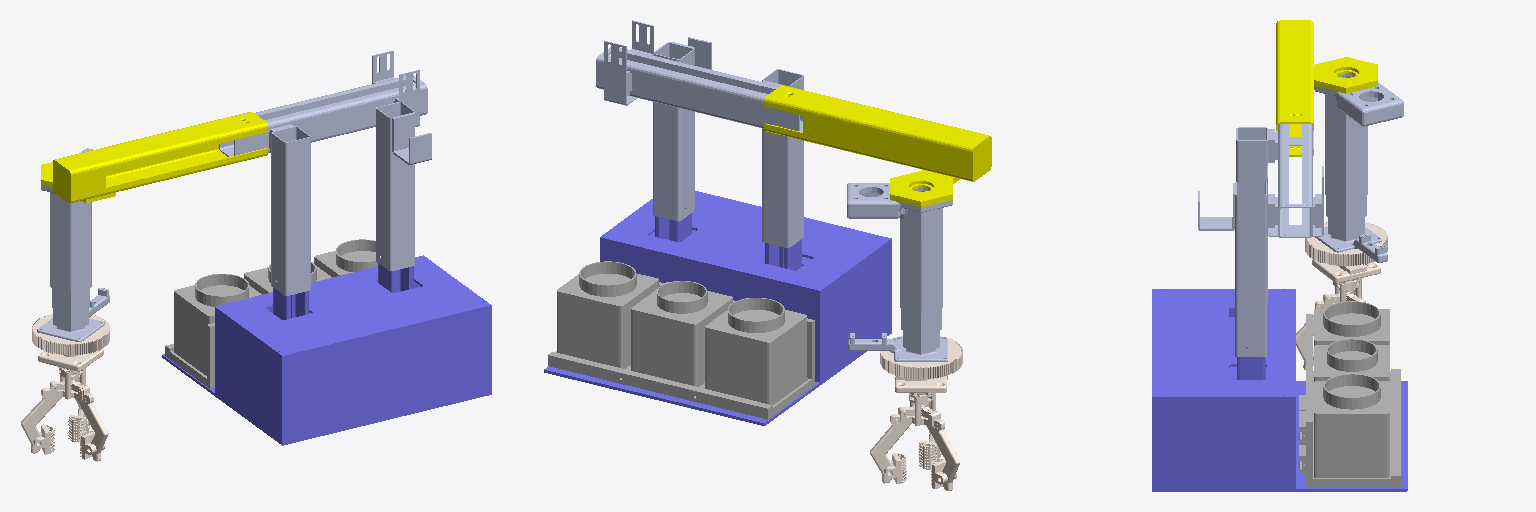
The robot description file, URDF, robot "URDF_v5.SLDASM":
<?xml version="1.0" encoding="utf-8"?>
<!-- This URDF was automatically created by SolidWorks to URDF Exporter! Originally created by [author] ([email redacted]) 
     Commit Version: 1.6.0-4-g7f85cfe  Build Version: 1.6.7995.38578
     For more information, please see http://wiki.ros.org/sw_urdf_exporter -->
<robot
  name="URDF_v5.SLDASM">
  <link
    name="base">
    <inertial>
      <origin
        xyz="0.0944893864769673 -0.0347411727043226 -0.101278892046256"
        rpy="0 0 0" />
      <mass
        value="6.12695332790383" />
      <inertia
        ixx="0.0526628123209649"
        ixy="3.72389539763587E-05"
        ixz="9.46408382568137E-12"
        iyy="0.110440494279973"
        iyz="1.05397026647092E-11"
        izz="0.143434836820738" />
    </inertial>
    <visual>
      <origin
        xyz="0 0 0"
        rpy="0 0 0" />
      <geometry>
        <mesh
          filename="package://sysmap_package/meshes/base.STL" />
      </geometry>
      <material
        name="">
        <color
          rgba="0.501960784313725 0.501960784313725 1 1" />
      </material>
    </visual>
    <collision>
      <origin
        xyz="0 0 0"
        rpy="0 0 0" />
      <geometry>
        <mesh
          filename="package://sysmap_package/meshes/base.STL" />
      </geometry>
    </collision>
  </link>
  <link
    name="gliss_poteaux">
    <inertial>
      <origin
        xyz="0.11856 0.031392 0.24509"
        rpy="0 0 0" />
      <mass
        value="0.5009" />
      <inertia
        ixx="0.0017002"
        ixy="-1.7782E-08"
        ixz="-2.7474E-19"
        iyy="0.0036788"
        iyz="-2.3225E-06"
        izz="0.0024273" />
    </inertial>
    <visual>
      <origin
        xyz="0 0 0"
        rpy="0 0 0" />
      <geometry>
        <mesh
          filename="package://sysmap_package/meshes/gliss_poteaux.STL" />
      </geometry>
      <material
        name="">
        <color
          rgba="0.79216 0.81961 0.93333 1" />
      </material>
    </visual>
    <collision>
      <origin
        xyz="0 0 0"
        rpy="0 0 0" />
      <geometry>
        <mesh
          filename="package://sysmap_package/meshes/gliss_poteaux.STL" />
      </geometry>
    </collision>
  </link>
  <joint
    name="gliss_poteaux"
    type="prismatic">
    <origin
      xyz="0 0 0"
      rpy="0 0 0" />
    <parent
      link="base" />
    <child
      link="gliss_poteaux" />
    <axis
      xyz="0 0 -1" />
    <limit
      lower="0"
      upper="0"
      effort="0"
      velocity="0" />
  </joint>
  <link
    name="gliss_bras">
    <inertial>
      <origin
        xyz="0.55743 -0.02058 -0.011047"
        rpy="0 0 0" />
      <mass
        value="0.33517" />
      <inertia
        ixx="0.00042422"
        ixy="-5.1329E-06"
        ixz="-1.9397E-18"
        iyy="0.002735"
        iyz="-1.4414E-07"
        izz="0.0028909" />
    </inertial>
    <visual>
      <origin
        xyz="0 0 0"
        rpy="0 0 0" />
      <geometry>
        <mesh
          filename="package://sysmap_package/meshes/gliss_bras.STL" />
      </geometry>
      <material
        name="">
        <color
          rgba="1 1 0 1" />
      </material>
    </visual>
    <collision>
      <origin
        xyz="0 0 0"
        rpy="0 0 0" />
      <geometry>
        <mesh
          filename="package://sysmap_package/meshes/gliss_bras.STL" />
      </geometry>
    </collision>
  </link>
  <joint
    name="gliss_bras"
    type="prismatic">
    <origin
      xyz="0.29342493954964 0.0679999999953615 0.296721660586204"
      rpy="0 0 -3.14159265358979" />
    <parent
      link="gliss_poteaux" />
    <child
      link="gliss_bras" />
    <axis
      xyz="-1 0 0" />
    <limit
      lower="0"
      upper="0"
      effort="0"
      velocity="0" />
  </joint>
  <link
    name="verrin">
    <inertial>
      <origin
        xyz="-0.012557 0.0072673 0.13794"
        rpy="0 0 0" />
      <mass
        value="0.66179" />
      <inertia
        ixx="0.0019699"
        ixy="0.00020748"
        ixz="-0.00015373"
        iyy="0.0022107"
        iyz="8.8756E-05"
        izz="0.0011449" />
    </inertial>
    <visual>
      <origin
        xyz="0 0 0"
        rpy="0 0 0" />
      <geometry>
        <mesh
          filename="package://sysmap_package/meshes/verrin.STL" />
      </geometry>
      <material
        name="">
        <color
          rgba="0.79216 0.81961 0.93333 1" />
      </material>
    </visual>
    <collision>
      <origin
        xyz="0 0 0"
        rpy="0 0 0" />
      <geometry>
        <mesh
          filename="package://sysmap_package/meshes/verrin.STL" />
      </geometry>
    </collision>
  </link>
  <joint
    name="verrin"
    type="prismatic">
    <origin
      xyz="0.62905742609016 -0.0800000014712998 -0.029999999991313"
      rpy="3.14159265358979 0 0" />
    <parent
      link="gliss_bras" />
    <child
      link="verrin" />
    <axis
      xyz="0 0 1" />
    <limit
      lower="0"
      upper="0"
      effort="0"
      velocity="0" />
  </joint>
  <link
    name="rot_pince">
    <inertial>
      <origin
        xyz="0.00029403 4.3441E-05 0.06931"
        rpy="0 0 0" />
      <mass
        value="0.545" />
      <inertia
        ixx="0.00039633"
        ixy="5.316E-07"
        ixz="2.4573E-07"
        iyy="0.00039731"
        iyz="-4.176E-07"
        izz="0.00063837" />
    </inertial>
    <visual>
      <origin
        xyz="0 0 0"
        rpy="0 0 0" />
      <geometry>
        <mesh
          filename="package://sysmap_package/meshes/rot_pince.STL" />
      </geometry>
      <material
        name="">
        <color
          rgba="1 0.94902 0.9098 1" />
      </material>
    </visual>
    <collision>
      <origin
        xyz="0 0 0"
        rpy="0 0 0" />
      <geometry>
        <mesh
          filename="package://sysmap_package/meshes/rot_pince.STL" />
      </geometry>
    </collision>
  </link>
  <joint
    name="rot_pince"
    type="revolute">
    <origin
      xyz="-2.8868E-05 5E-05 0.28098"
      rpy="0 0 3.1416" />
    <parent
      link="verrin" />
    <child
      link="rot_pince" />
    <axis
      xyz="0 0 1" />
    <limit
      lower="0"
      upper="0"
      effort="0"
      velocity="0" />
  </joint>
  <link
    name="gliss_boites">
    <inertial>
      <origin
        xyz="0.20916 0.086052 0.064713"
        rpy="0 0 0" />
      <mass
        value="2.8059" />
      <inertia
        ixx="0.006782"
        ixy="2.8531E-18"
        ixz="-5.0391E-18"
        iyy="0.016265"
        iyz="-0.00075102"
        izz="0.017965" />
    </inertial>
    <visual>
      <origin
        xyz="0 0 0"
        rpy="0 0 0" />
      <geometry>
        <mesh
          filename="package://sysmap_package/meshes/gliss_boites.STL" />
      </geometry>
      <material
        name="">
        <color
          rgba="0.75294 0.75294 0.75294 1" />
      </material>
    </visual>
    <collision>
      <origin
        xyz="0 0 0"
        rpy="0 0 0" />
      <geometry>
        <mesh
          filename="package://sysmap_package/meshes/gliss_boites.STL" />
      </geometry>
    </collision>
  </link>
  <joint
    name="gliss_boites"
    type="prismatic">
    <origin
      xyz="0.29342 0.233 -0.15699"
      rpy="0 0 -3.1416" />
    <parent
      link="base" />
    <child
      link="gliss_boites" />
    <axis
      xyz="1 0 0" />
    <limit
      lower="0"
      upper="0.26"
      effort="0"
      velocity="0" />
  </joint>
</robot>

--- What the picture shows (computed from the rendered views, not written in the file) ---
The picture shows the robot from 3 angles, left to right: view 1: azimuth 30°, elevation 25°; view 2: azimuth 150°, elevation 25°; view 3: azimuth 270°, elevation 25°; orthographic projection.
Model URDF_v5.SLDASM with 6 links and 5 joints (1 revolute, 4 prismatic), rooted at base, posed every joint at zero.
Visible links, largest first — view 1: base, gliss_poteaux, gliss_bras, gliss_boites, verrin, rot_pince; view 2: gliss_boites, base, gliss_poteaux, gliss_bras, verrin, rot_pince; view 3: base, gliss_boites, gliss_poteaux, verrin, gliss_bras, rot_pince.
Link boxes in pixels (x1=…): base: x1=162, y1=255, x2=491, y2=445; gliss_poteaux: x1=219, y1=51, x2=431, y2=295; gliss_bras: x1=41, y1=112, x2=267, y2=202; gliss_boites: x1=165, y1=239, x2=377, y2=388; verrin: x1=37, y1=148, x2=109, y2=341; rot_pince: x1=21, y1=314, x2=109, y2=461; gliss_boites: x1=548, y1=261, x2=814, y2=419; base: x1=544, y1=191, x2=891, y2=425; gliss_poteaux: x1=596, y1=20, x2=803, y2=247; gliss_bras: x1=764, y1=85, x2=991, y2=207; verrin: x1=847, y1=183, x2=952, y2=361; rot_pince: x1=870, y1=335, x2=962, y2=490; base: x1=1152, y1=289, x2=1407, y2=491; gliss_boites: x1=1299, y1=301, x2=1400, y2=486; gliss_poteaux: x1=1198, y1=124, x2=1323, y2=356; verrin: x1=1314, y1=74, x2=1403, y2=262; gliss_bras: x1=1276, y1=20, x2=1377, y2=156; rot_pince: x1=1296, y1=222, x2=1387, y2=369.
Size in the robot's own frame: 0.7118 by 0.4 by 0.6058 metres.
6 mesh visuals loaded from 6 distinct referenced files (6 binary STL).